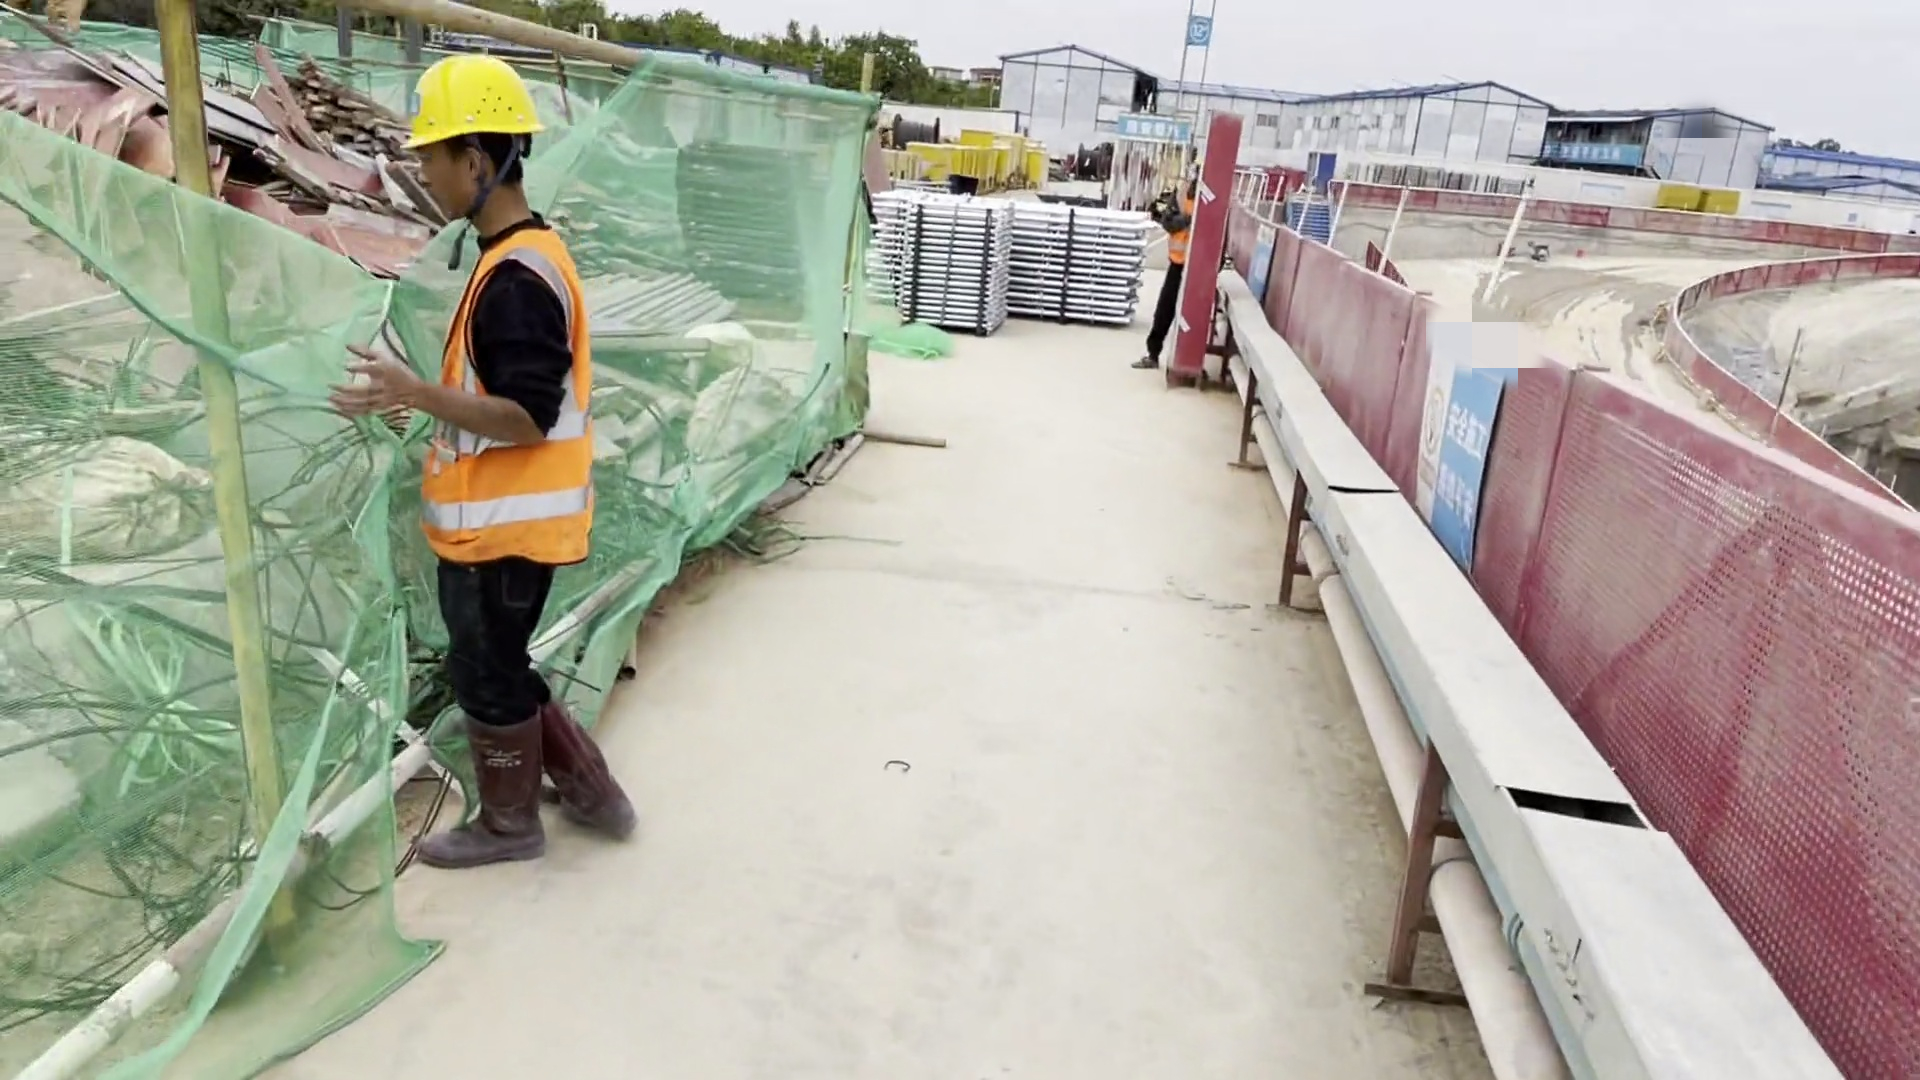helmet: (388, 54, 556, 150)
person: (378, 70, 647, 864), (1156, 151, 1219, 377)
scaffold: (867, 184, 1147, 354)
vest: (419, 224, 597, 566), (1163, 196, 1231, 280)
